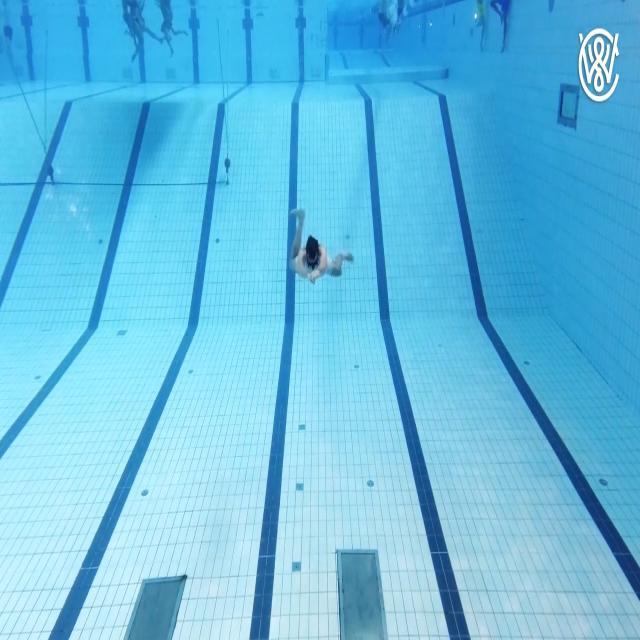Swimming: (290, 206, 354, 287)
